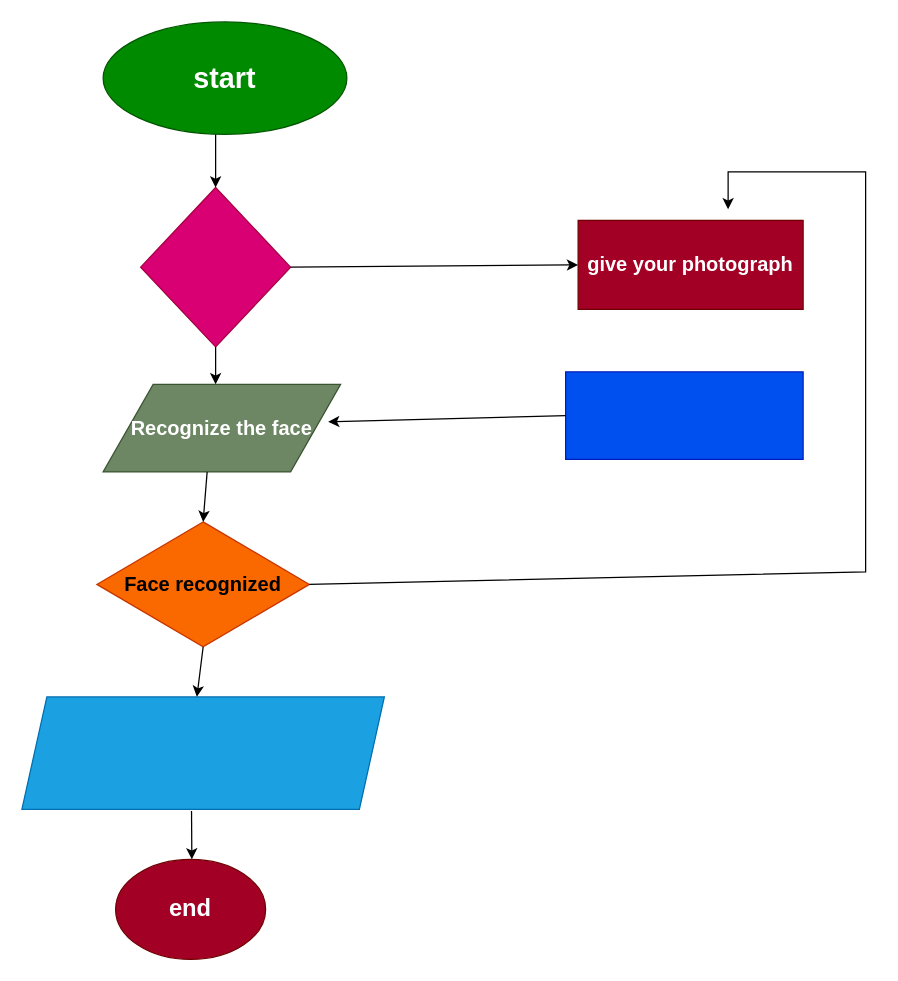
The diagram is 898 pixels wide and 981 high, and some of its shapes have lost their labels. The box of each missing label's shape, as (x1, y1, x2, y2) in pixels:
New user ?: (139, 186, 291, 347)
Store in csv file with registration number & date time of enrty: (21, 696, 384, 809)
store the face data on floder on your name: (564, 371, 803, 459)
